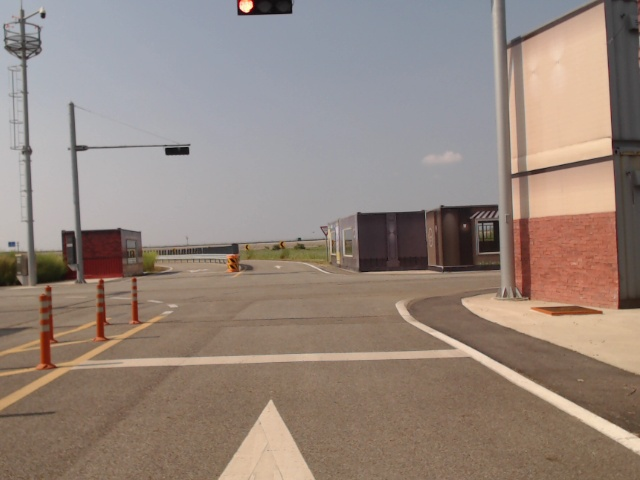red_3: (237, 0, 293, 15)
